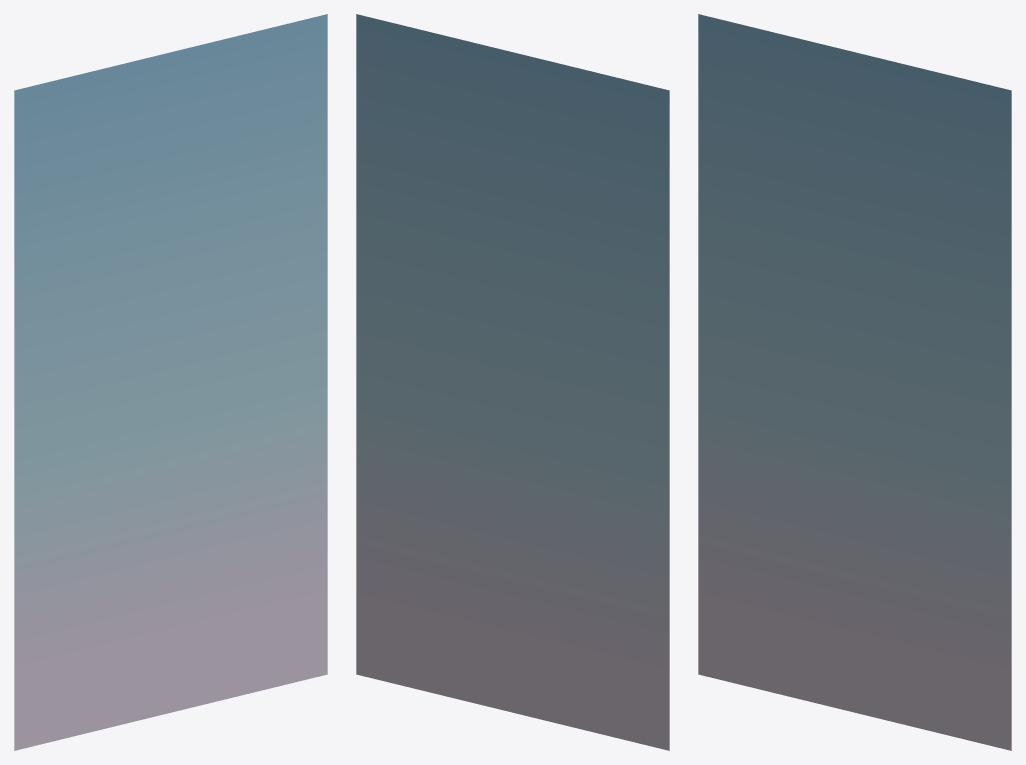
File: FogCard.glb
The picture shows the model from 3 angles, left to right: view 1: azimuth 30°, elevation 25°; view 2: azimuth 150°, elevation 25°; view 3: azimuth 330°, elevation 25°; orthographic projection.
Parts seen in each view (by area): view 1: FogCard; view 2: FogCard; view 3: FogCard.
Part boxes in pixels (left/top/right/bottom): FogCard: left=14, top=14, right=327, bottom=750; FogCard: left=356, top=14, right=669, bottom=750; FogCard: left=698, top=14, right=1011, bottom=750.
Size of the model in its own units: 1.99 by 4.01 by 0.
